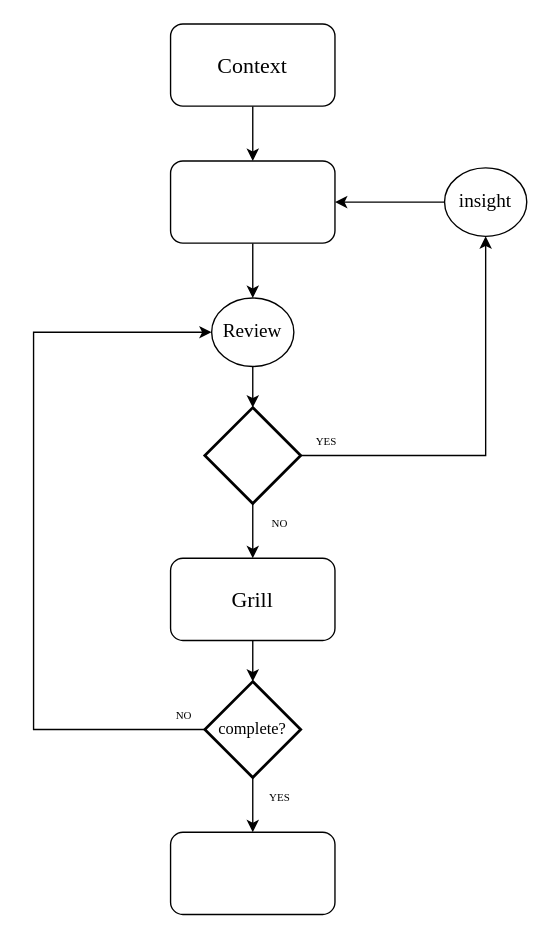
This 551x938 diagram has some shape labels left out. Each missing label, with the centre of its shape:
Memory: the point at 252,201
new idea?: the point at 252,455
Summary: the point at 252,872
